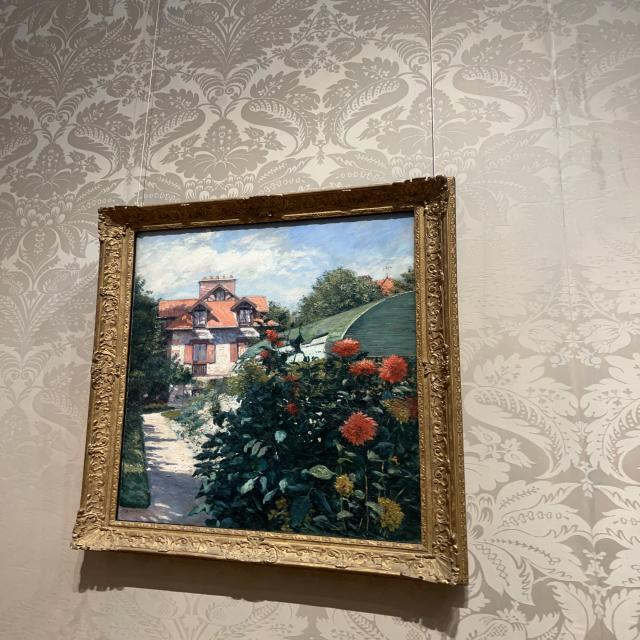summer: (120, 215, 419, 544)
